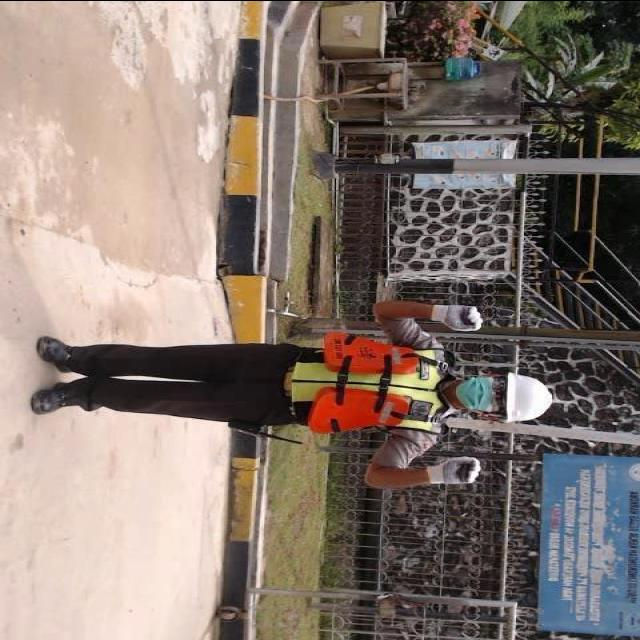helmet: (505, 364, 556, 434)
jacket: (300, 327, 446, 435)
